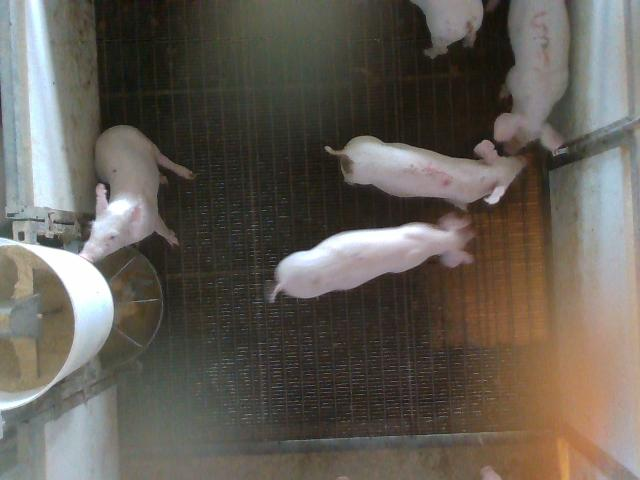pig-3: (494, 0, 570, 154)
pig-5: (325, 136, 525, 208)
